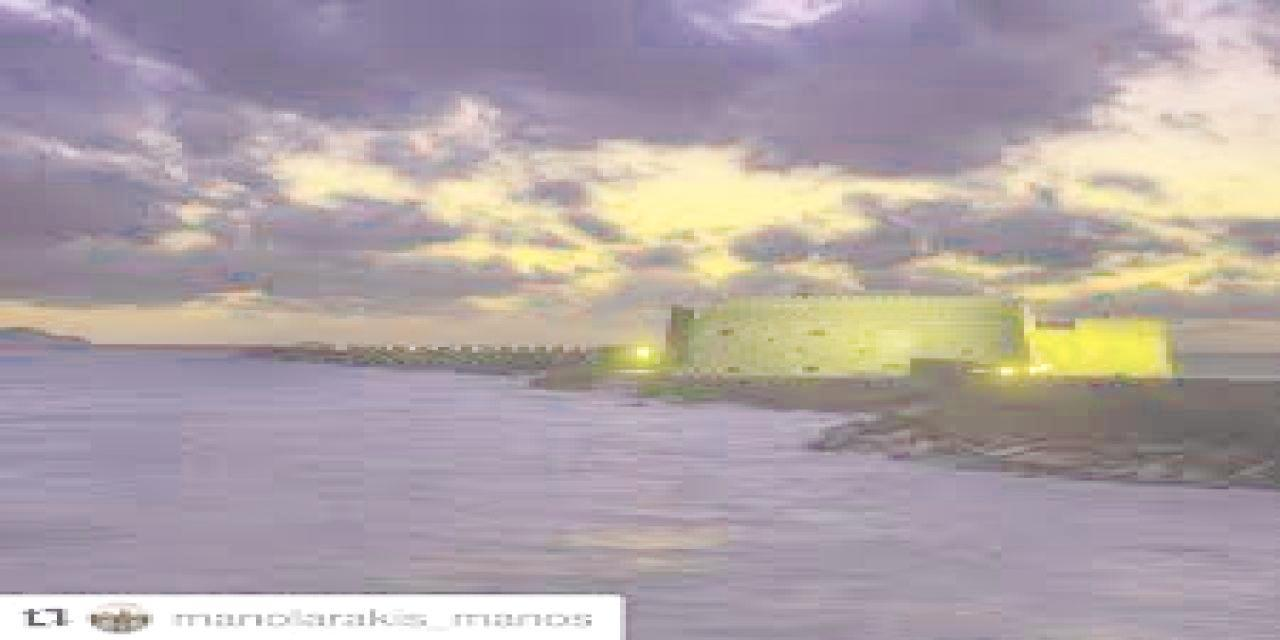Kules: (670, 284, 1178, 392)
